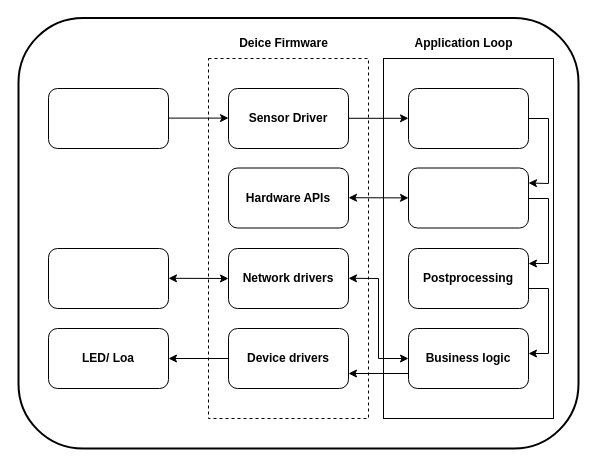
Image size: 596x467. Some labels were removed from this diagram. The shapes that lost their labels are listed below. From the top down, each one's centre as x and y in pixels, then its label:
[108,118]: ECG Sensor
[468,118]: Signal processing
[468,197]: RNN Model
[108,278]: Wifi Module
